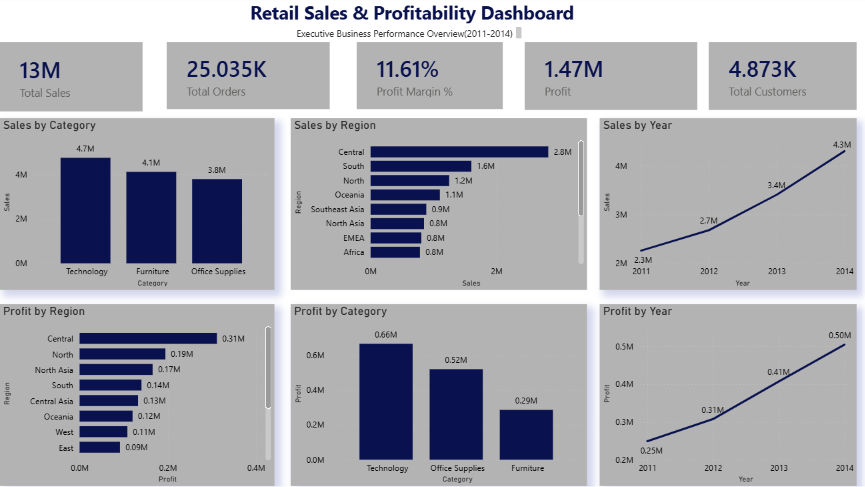

The dashboard page shown, as its layout file describes it:
{"tool":"powerbi","page":{"name":"Page 1","canvas":[1280,720],"ordinal":0},"visuals":[{"type":"cardVisual","fields":{"Data":["Sum(superstoreprroject.Sales)"]},"box":[13.1,67,208.1,100.4],"z":0},{"type":"cardVisual","fields":{"Data":["Sum(superstoreprroject.Profit)"]},"box":[776.8,66.6,251.4,98.4],"z":1000},{"type":"cardVisual","fields":{"Data":["Count(superstoreprroject.Order_ID)"]},"box":[256.2,67,237.3,97.5],"z":2000},{"type":"cardVisual","fields":{"Data":["Count(superstoreprroject.Customer_ID)"]},"box":[1044.8,66.6,215,98.4],"z":3000},{"type":"cardVisual","fields":{"Data":["superstoreprroject.Profit Margin"]},"box":[532.7,67,212.5,97.5],"z":4000},{"type":"clusteredColumnChart","fields":{"Category":["superstoreprroject.Category"],"Y":["Sum(superstoreprroject.Sales)"]},"box":[13.6,177.2,399.8,249.8],"z":5000},{"type":"clusteredColumnChart","fields":{"Category":["superstoreprroject.Category"],"Y":["Sum(superstoreprroject.Profit)"]},"box":[436.1,448.2,431.5,265],"z":6000},{"type":"clusteredBarChart","fields":{"Category":["superstoreprroject.Region"],"Y":["Sum(superstoreprroject.Sales)"]},"box":[436.1,177.2,431.5,249.8],"z":7000},{"type":"clusteredBarChart","fields":{"Category":["superstoreprroject.Region"],"Y":["Sum(superstoreprroject.Profit)"]},"box":[13.6,448.2,399.8,265],"z":8000},{"type":"lineChart","fields":{"Category":["superstoreprroject.Order_Date.Variation.Date Hierarchy.Year","superstoreprroject.Order_Date.Variation.Date Hierarchy.Month"],"Y":["Sum(superstoreprroject.Sales)"]},"box":[885.8,177.2,374,249.8],"z":11000},{"type":"lineChart","fields":{"Category":["superstoreprroject.Order_Date.Variation.Date Hierarchy.Year","superstoreprroject.Order_Date.Variation.Date Hierarchy.Month"],"Y":["Sum(superstoreprroject.Profit)"]},"box":[885.8,448.2,374,265],"z":12000},{"type":"textbox","box":[365.9,0,503.6,55.1],"z":13000},{"type":"textbox","box":[436.1,39.4,340.7,27.3],"z":14000}]}

Visuals, with their boxes in screenshot pixels (x1, y1, x2, y2), scaled from the page's 1280x720 canvas onto the 865x487 screenshot:
cardVisual - Sum(superstoreprroject.Sales): Rect(9, 45, 149, 113)
cardVisual - Sum(superstoreprroject.Profit): Rect(525, 45, 695, 112)
cardVisual - Count(superstoreprroject.Order_ID): Rect(173, 45, 333, 111)
cardVisual - Count(superstoreprroject.Customer_ID): Rect(706, 45, 851, 112)
cardVisual - superstoreprroject.Profit Margin: Rect(360, 45, 504, 111)
clusteredColumnChart - superstoreprroject.Category x Sum(superstoreprroject.Sales): Rect(9, 120, 279, 289)
clusteredColumnChart - superstoreprroject.Category x Sum(superstoreprroject.Profit): Rect(295, 303, 586, 482)
clusteredBarChart - superstoreprroject.Region x Sum(superstoreprroject.Sales): Rect(295, 120, 586, 289)
clusteredBarChart - superstoreprroject.Region x Sum(superstoreprroject.Profit): Rect(9, 303, 279, 482)
lineChart - superstoreprroject.Order_Date.Variation.Date Hierarchy.Year x superstoreprroject.Order_Date.Variation.Date Hierarchy.Month: Rect(599, 120, 851, 289)
lineChart - superstoreprroject.Order_Date.Variation.Date Hierarchy.Year x superstoreprroject.Order_Date.Variation.Date Hierarchy.Month: Rect(599, 303, 851, 482)
textbox: Rect(247, 0, 588, 37)
textbox: Rect(295, 27, 525, 45)
